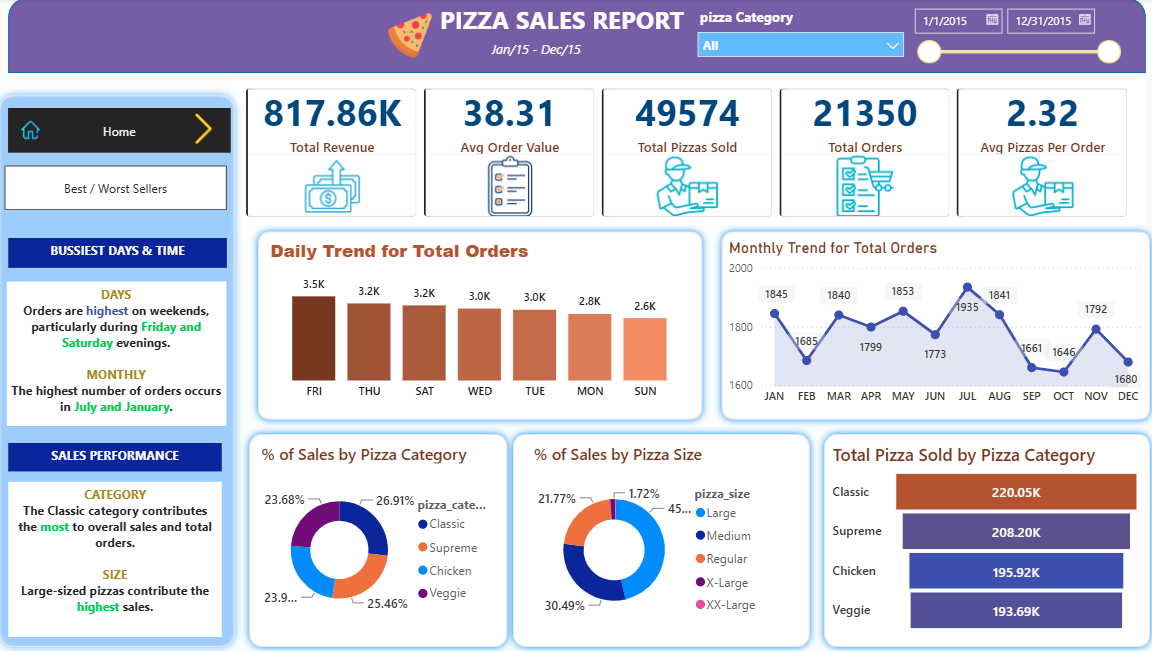

What the dashboard file says about the page in this screenshot:
{"tool":"powerbi","page":{"name":"Home","canvas":[1280,720],"ordinal":0},"visuals":[{"type":"cardVisual","fields":{"Data":["pizza_sales.Total Revenue","pizza_sales.Avg Order Value","pizza_sales.Total Pizzas Sold","pizza_sales.Total Orders","pizza_sales.Avg Pizzas Per Order"]},"box":[262.1,82.3,1004.5,175.6],"z":0},{"type":"shape","box":[17.8,0,1248.7,82.3],"z":1000},{"type":"textbox","box":[473.4,0,304.6,45.3],"z":2000},{"type":"textbox","box":[543.4,41.2,135.8,31.6],"z":3000},{"type":"image","box":[433.6,12.3,50.8,57.6],"z":4000},{"type":"shape","box":[284,248.4,503.6,222.3],"z":5000},{"type":"columnChart","title":"Daily Trend for Total Orders","fields":{"Category":["pizza_sales.Order Day"],"Y":["pizza_sales.Total Orders"]},"box":[300.5,263.5,470.7,186.6],"z":6000},{"type":"shape","box":[793.1,248.4,487.1,222.3],"z":7000},{"type":"areaChart","title":"Monthly Trend for Total Orders","fields":{"Category":["pizza_sales.Order Month"],"Y":["pizza_sales.Total Orders"]},"box":[804.1,263.5,462.4,192.1],"z":8000},{"type":"shape","box":[274.4,470.7,299.1,249.7],"z":9000},{"type":"shape","box":[564,470.7,341.7,249.7],"z":10000},{"type":"shape","box":[905.7,470.7,374.6,249.7],"z":11000},{"type":"donutChart","title":"% of Sales by Pizza Category","fields":{"Category":["pizza_sales.pizza_category"],"Y":["pizza_sales.Total Revenue"]},"box":[290.9,488.5,266.2,212.7],"z":12000},{"type":"shape","box":[0,98.8,274.4,621.6],"z":13000},{"type":"donutChart","title":"% of Sales by Pizza Size","fields":{"Category":["pizza_sales.pizza_size"],"Y":["pizza_sales.Total Revenue"]},"box":[590.1,488.5,266.2,212.7],"z":14000},{"type":"textbox","box":[15.1,310.1,242.9,160.5],"z":15000},{"type":"textbox","box":[17.8,263.5,240.1,32.9],"z":16000},{"type":"funnel","title":"Total Pizza Sold by Pizza Category","fields":{"Category":["pizza_sales.pizza_category"],"Y":["pizza_sales.Total Revenue"]},"box":[918,488.5,348.5,212.7],"z":17000},{"type":"textbox","box":[17.8,531,234.6,170.2],"z":18000},{"type":"textbox","box":[17.8,488.5,234.6,31.6],"z":19000},{"type":"slicer","fields":{"Values":["pizza_sales.pizza_category"]},"box":[764.3,5.5,247,71.4],"z":20000},{"type":"slicer","fields":{"Values":["pizza_sales.order_date"]},"box":[1000.3,1.4,247,81],"z":21000},{"type":"pageNavigator","box":[17.8,120.8,244.3,49.4],"z":22000},{"type":"pageNavigator","box":[13.7,183.9,244.3,49.4],"z":23000},{"type":"image","box":[24.7,134.5,35.7,20.6],"z":23001},{"type":"image","box":[212.7,126.2,39.8,34.3],"z":23002}]}

Visuals, with their boxes in screenshot pixels (x1, y1, x2, y2), scaled from the page's 1280x720 canvas onto the 1152x651 screenshot:
cardVisual - pizza_sales.Total Revenue x pizza_sales.Avg Order Value: 236/74/1140/233
shape: 16/0/1140/74
textbox: 426/0/700/41
textbox: 489/37/611/66
image: 390/11/436/63
shape: 256/225/709/426
"Daily Trend for Total Orders" columnChart: 270/238/694/407
shape: 714/225/1151/426
"Monthly Trend for Total Orders" areaChart: 724/238/1140/412
shape: 247/426/516/650
shape: 508/426/815/650
shape: 815/426/1151/650
"% of Sales by Pizza Category" donutChart: 262/442/501/634
shape: 0/89/247/650
"% of Sales by Pizza Size" donutChart: 531/442/771/634
textbox: 14/280/232/426
textbox: 16/238/232/268
"Total Pizza Sold by Pizza Category" funnel: 826/442/1140/634
textbox: 16/480/227/634
textbox: 16/442/227/470
slicer - pizza_sales.pizza_category: 688/5/910/70
slicer - pizza_sales.order_date: 900/1/1123/75
pageNavigator: 16/109/236/154
pageNavigator: 12/166/232/211
image: 22/122/54/140
image: 191/114/227/145
